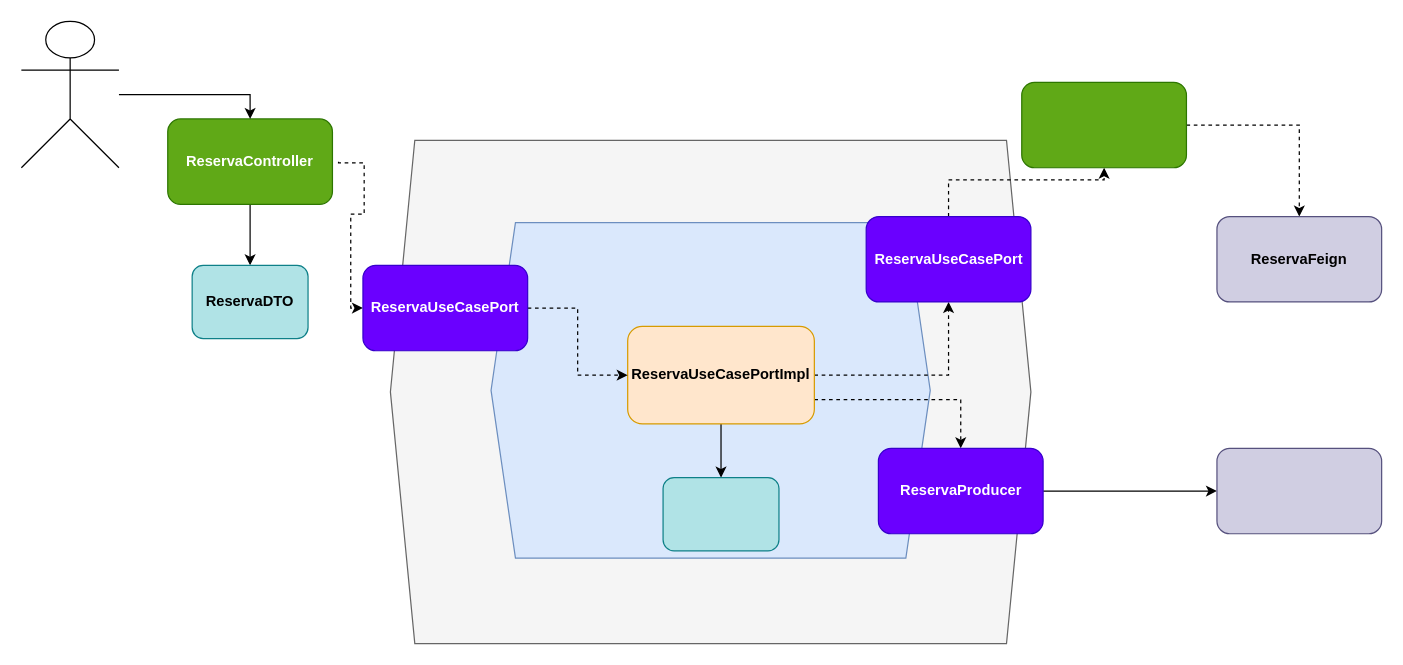
Some shapes in this 1403 by 665 pixel diagram are drawn without their labels. Here are the shapes that lost their labels. From the top down, the box of each, then its label:
(20, 20, 119, 168): Actor
(1021, 81, 1186, 168): ReservaAdapter
(1216, 447, 1382, 534): Kafka
(662, 476, 779, 551): Reserva
